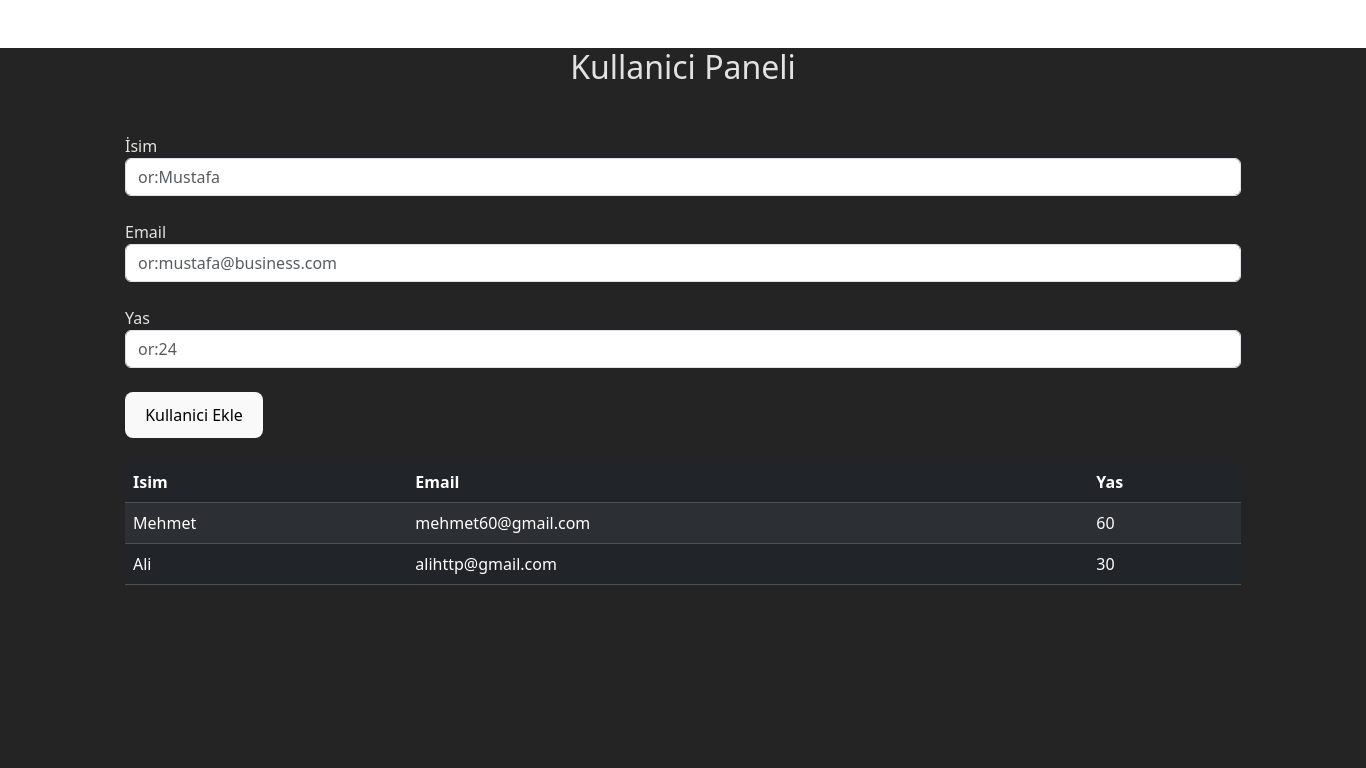
uygulma dogru sekilde calisiyor mu
In the field labelled "İsim": (683, 177) x1=125 y1=158 x2=1241 y2=196, type "veli"
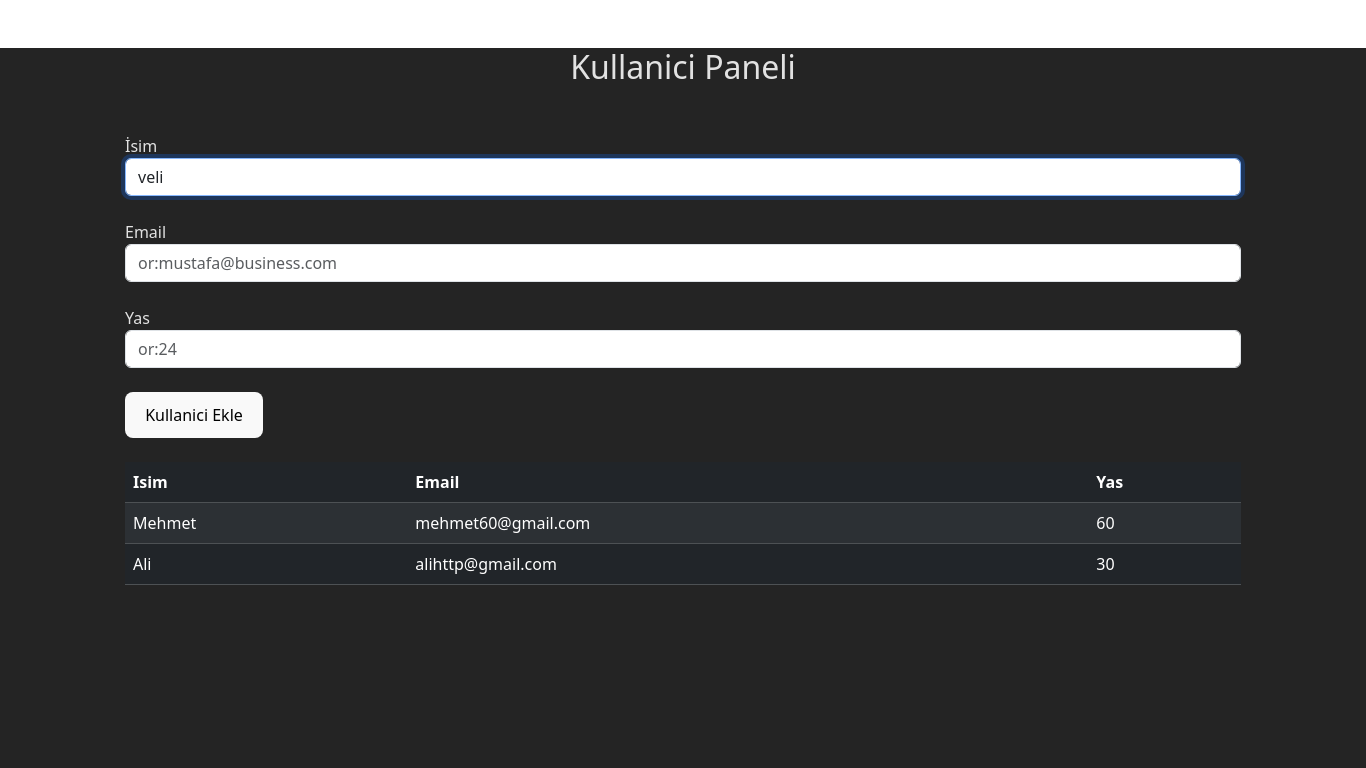
In the field labelled "Email": (683, 263) x1=125 y1=244 x2=1241 y2=282, type "veli@gmail.com"
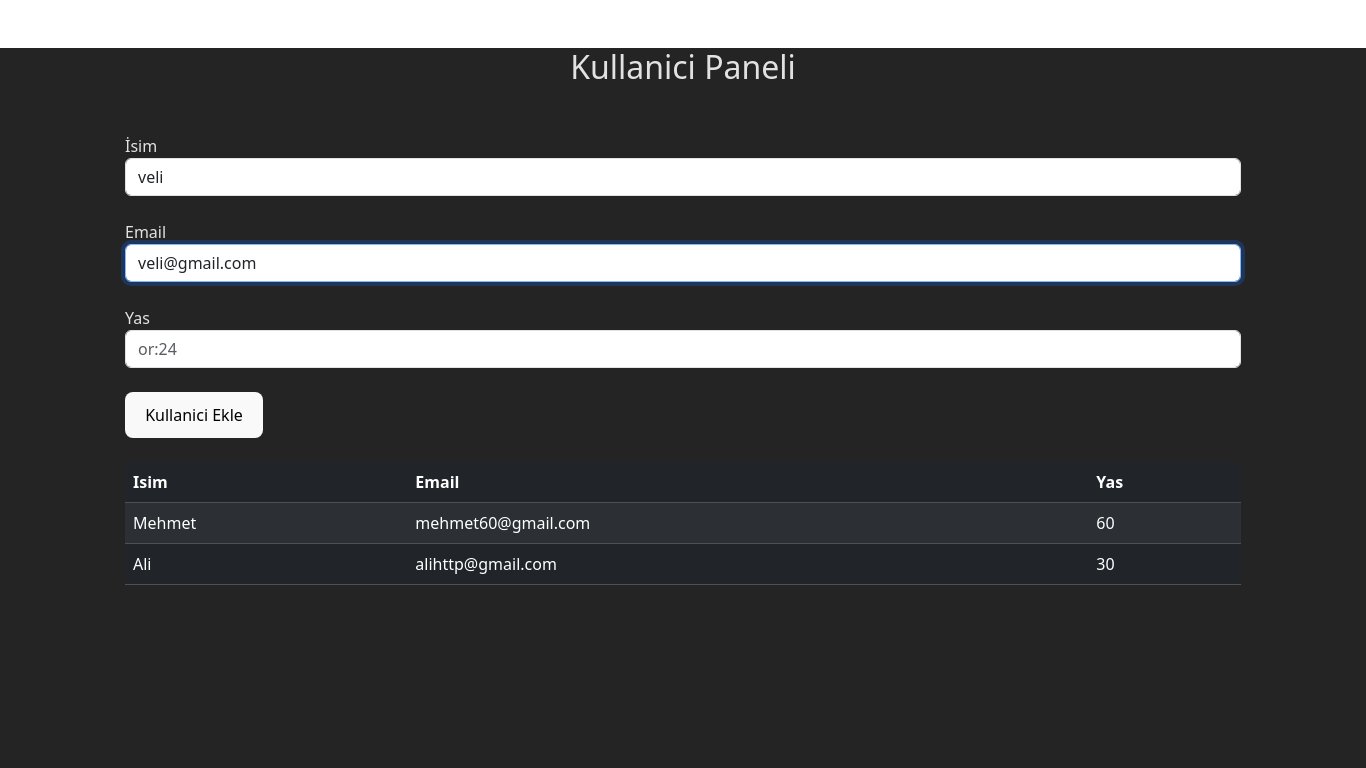
In the number field labelled "Yas": (683, 349) x1=125 y1=330 x2=1241 y2=368, type "24"
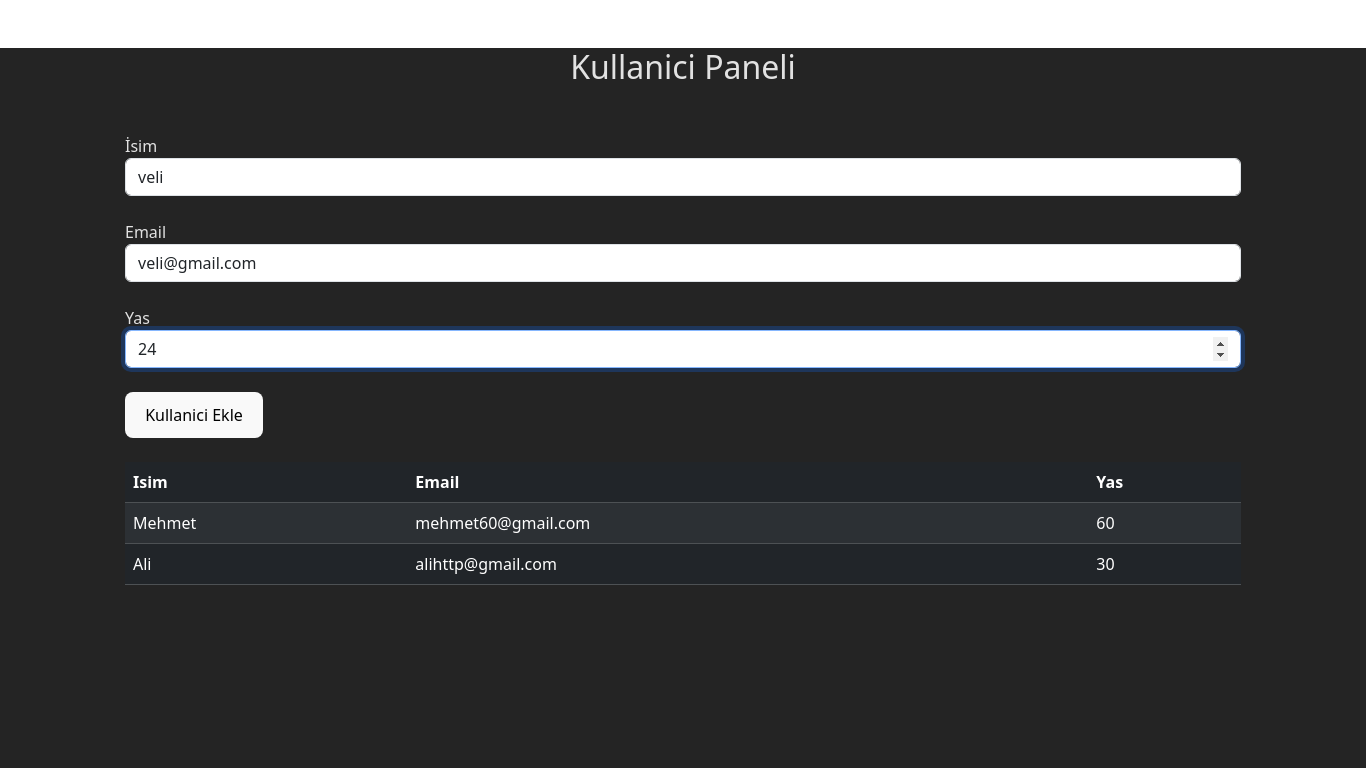
Click the button "Kullanici Ekle": click(194, 415) x1=125 y1=392 x2=263 y2=438
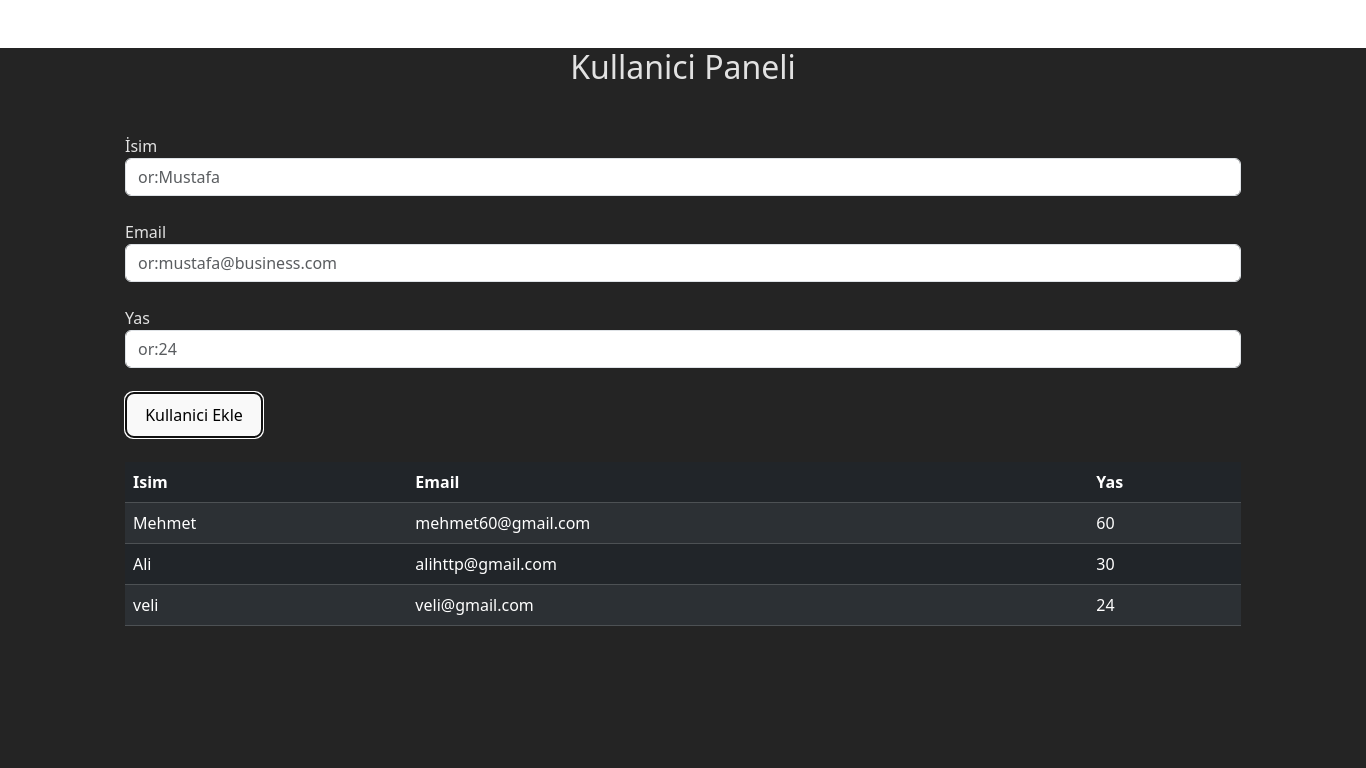
Expected: the cell "veli" is shown, x1=125 y1=584 x2=407 y2=625
Expected: the cell "veli@gmail.com" is shown, x1=407 y1=584 x2=1088 y2=625
Expected: the cell "24" is shown, x1=1088 y1=584 x2=1241 y2=625
